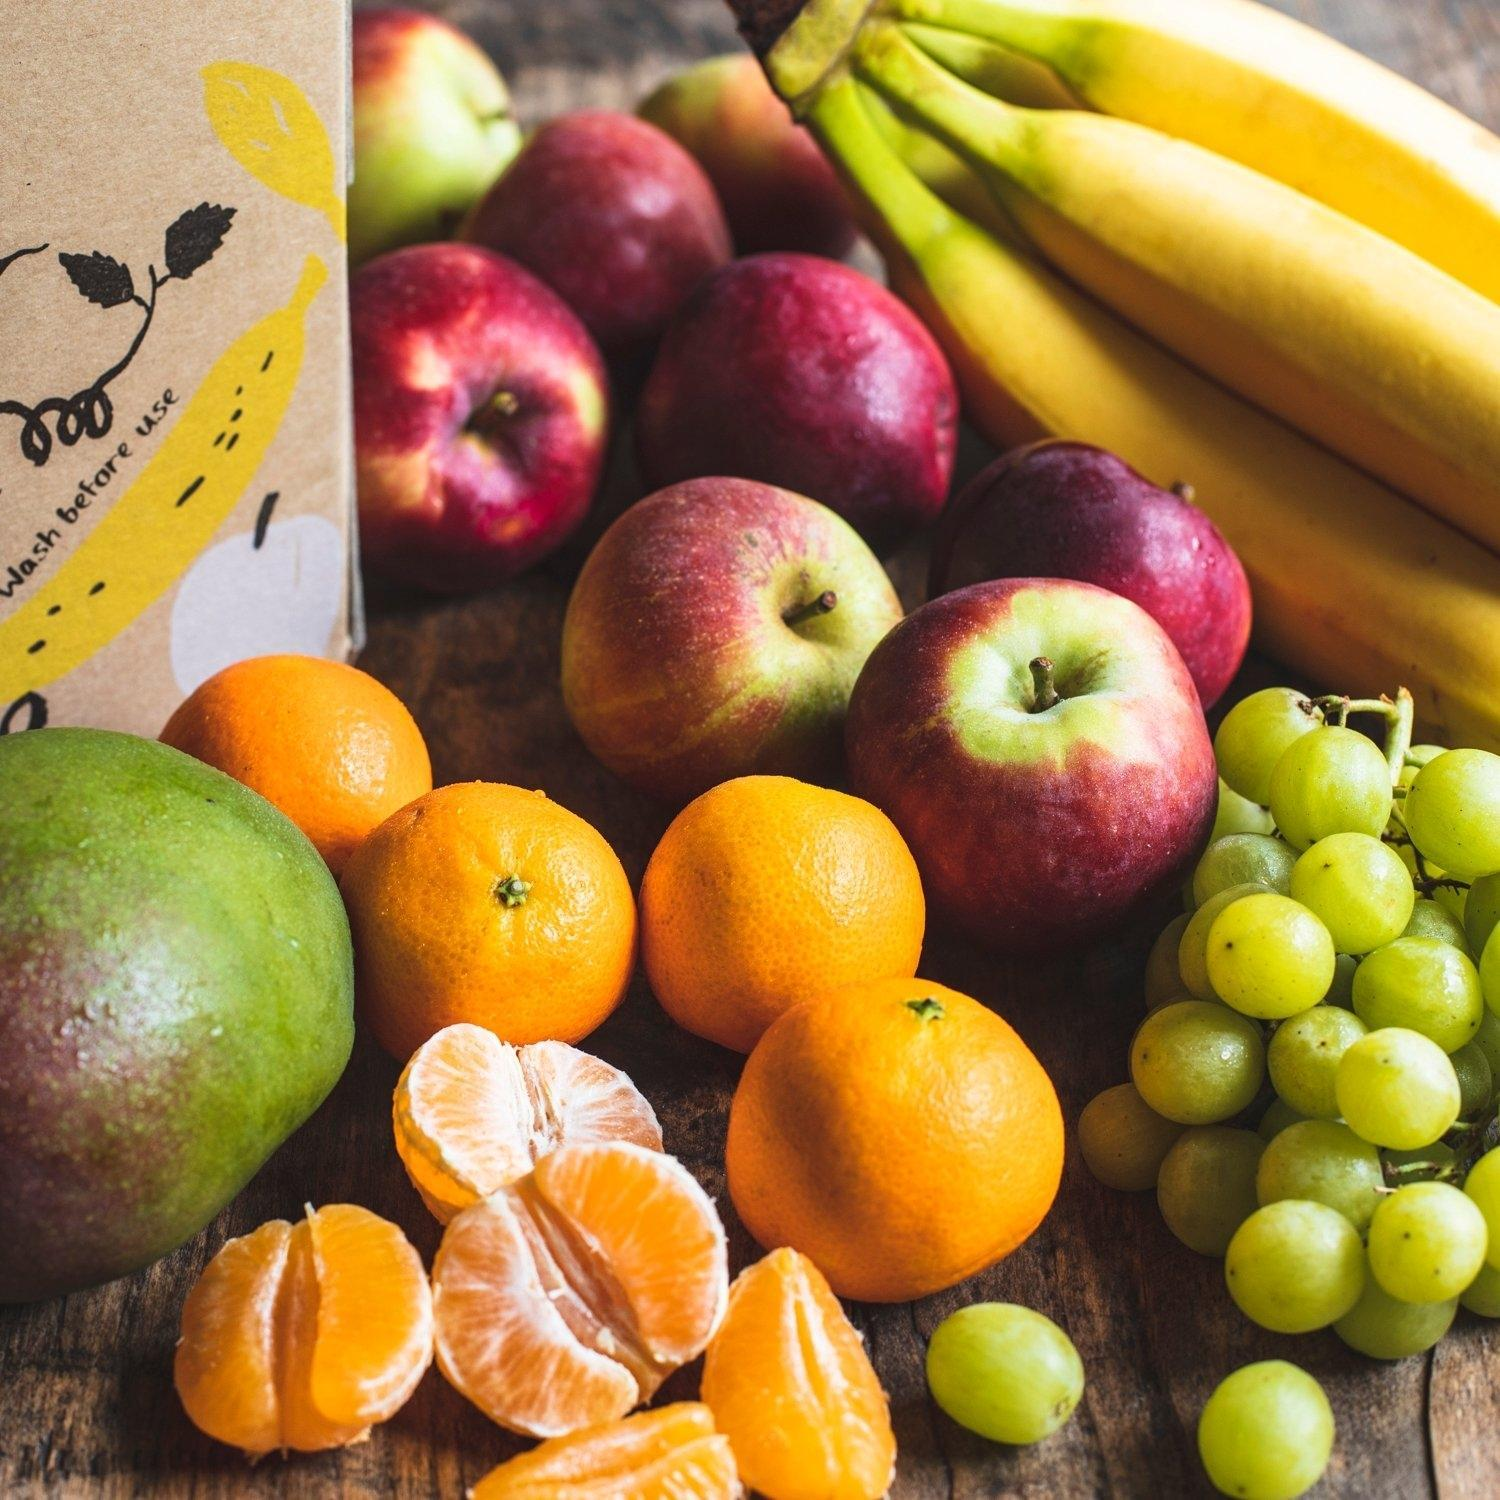apple: (848, 548, 1229, 944), (901, 441, 1249, 775), (559, 475, 909, 804), (624, 251, 957, 566), (345, 245, 604, 593), (463, 110, 731, 356)
